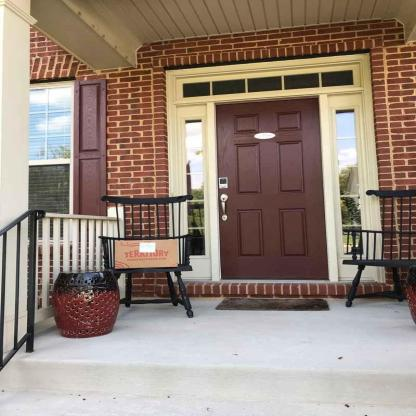label: (139, 243, 155, 255)
package: (115, 237, 180, 268)
